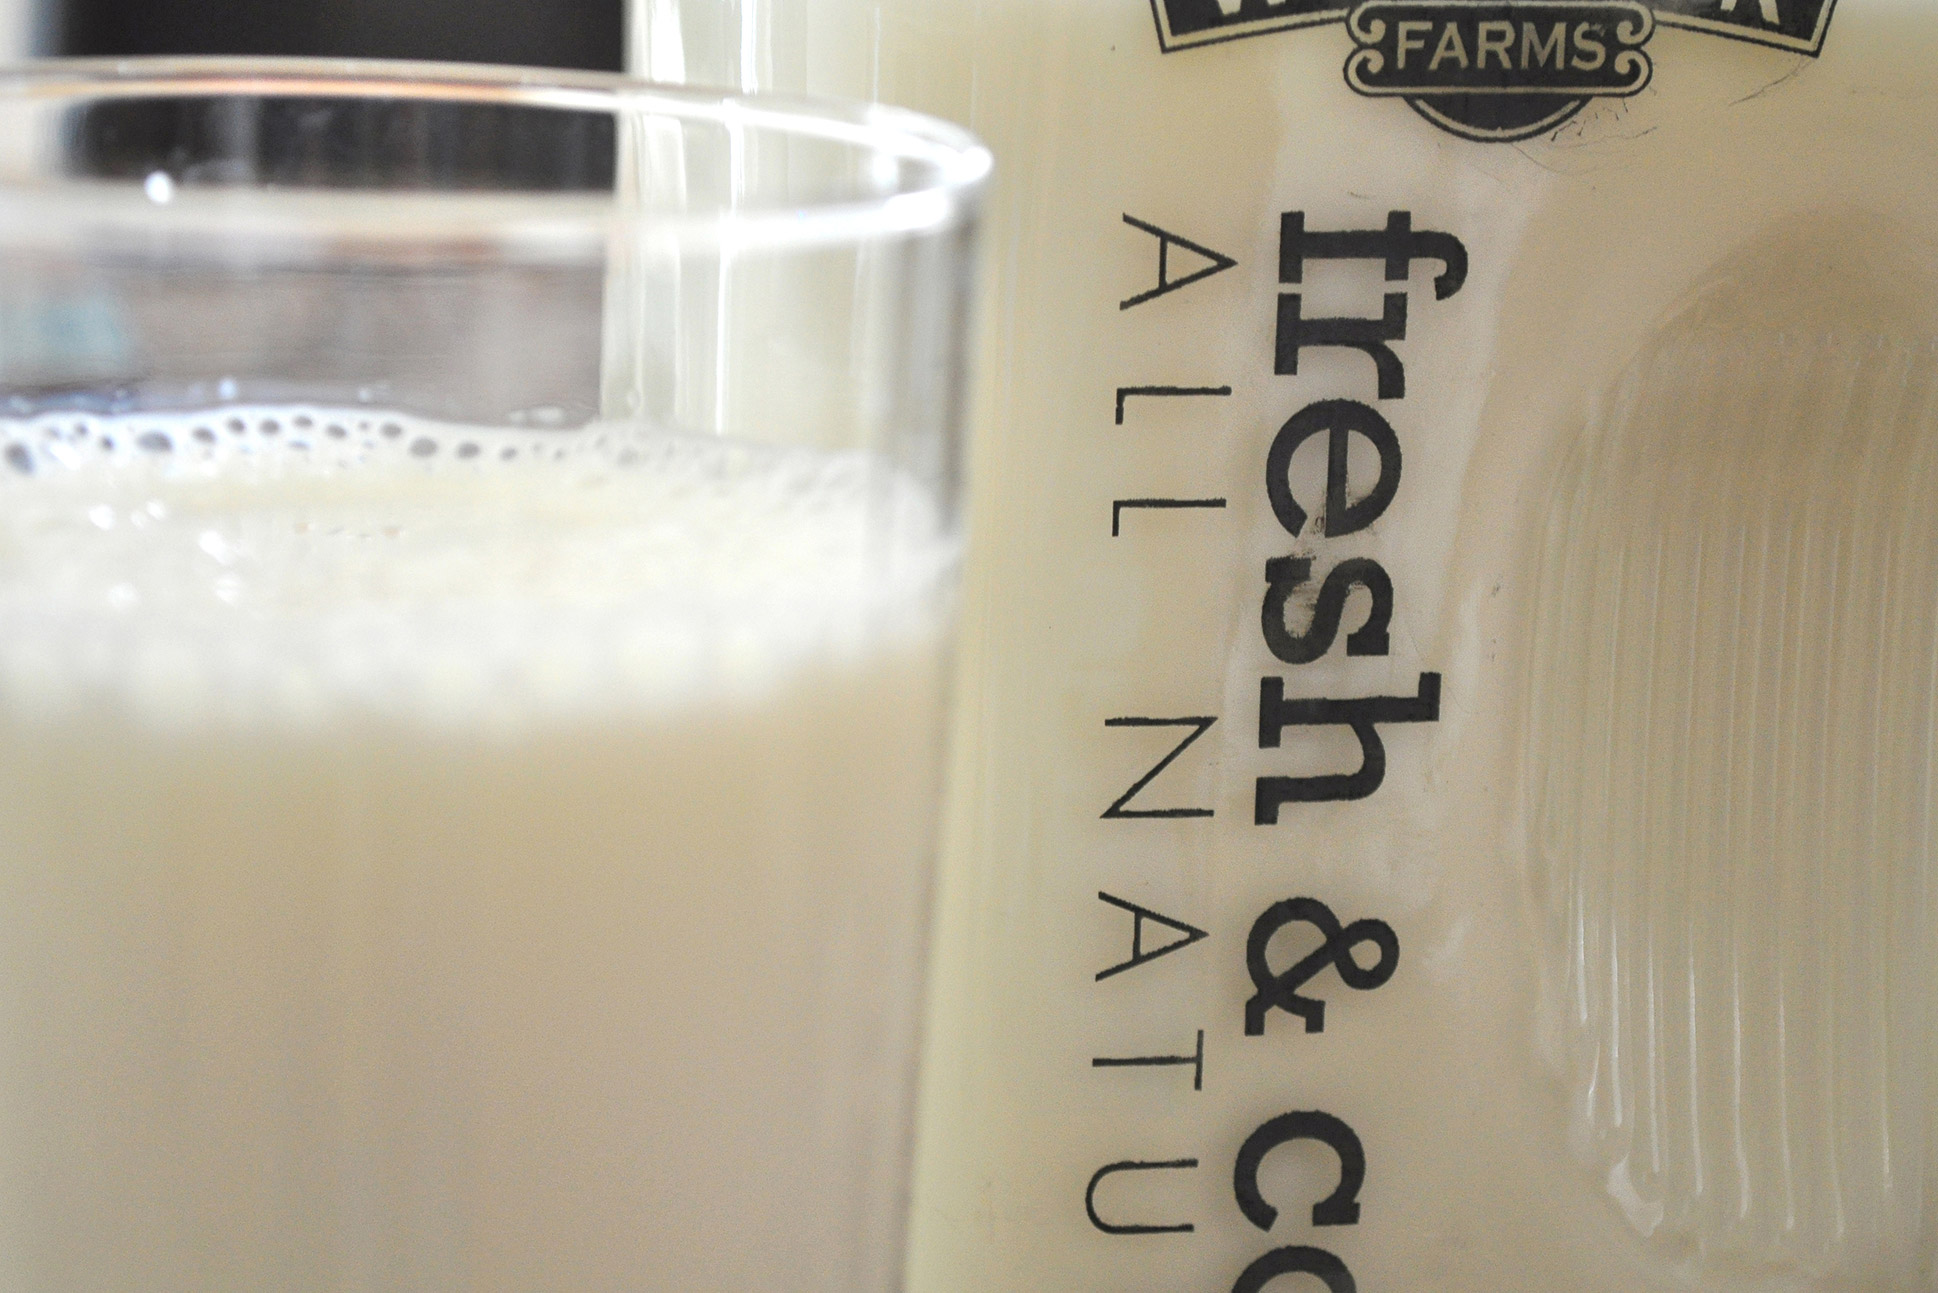glass of milk: (1, 130, 1010, 1293)
